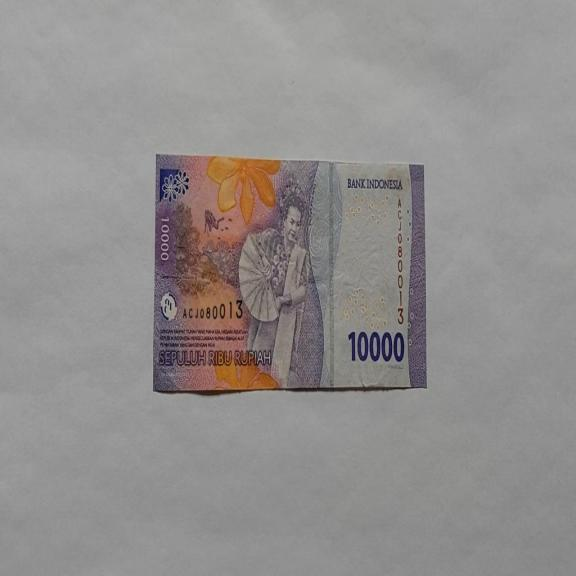Kertas: (153, 154, 426, 394)
